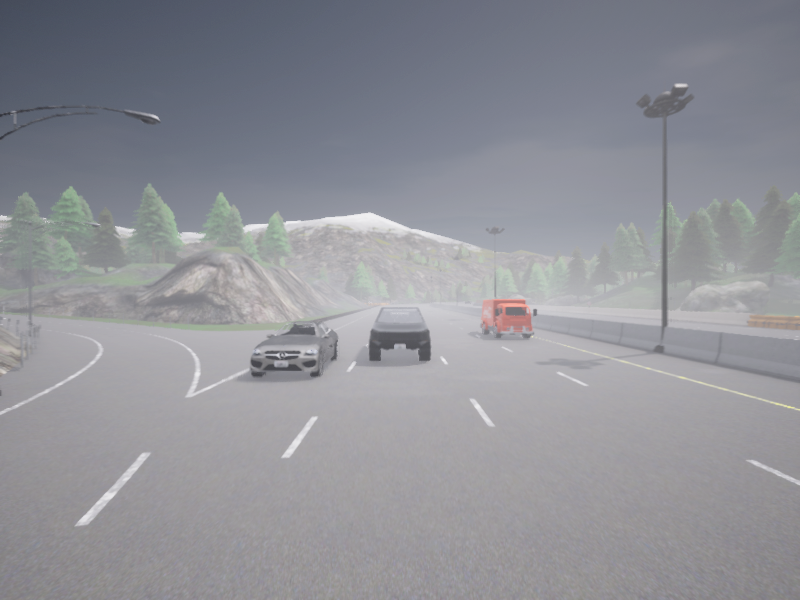vehicle: (250, 321, 338, 377), (369, 307, 430, 361), (480, 299, 536, 338), (466, 301, 472, 303)
